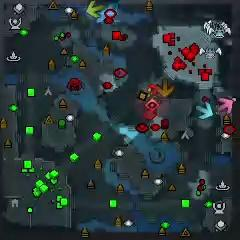x1: (218, 97, 233, 115)
x2: (87, 0, 104, 18)
x3: (197, 101, 214, 119)
x5: (155, 78, 174, 96)
